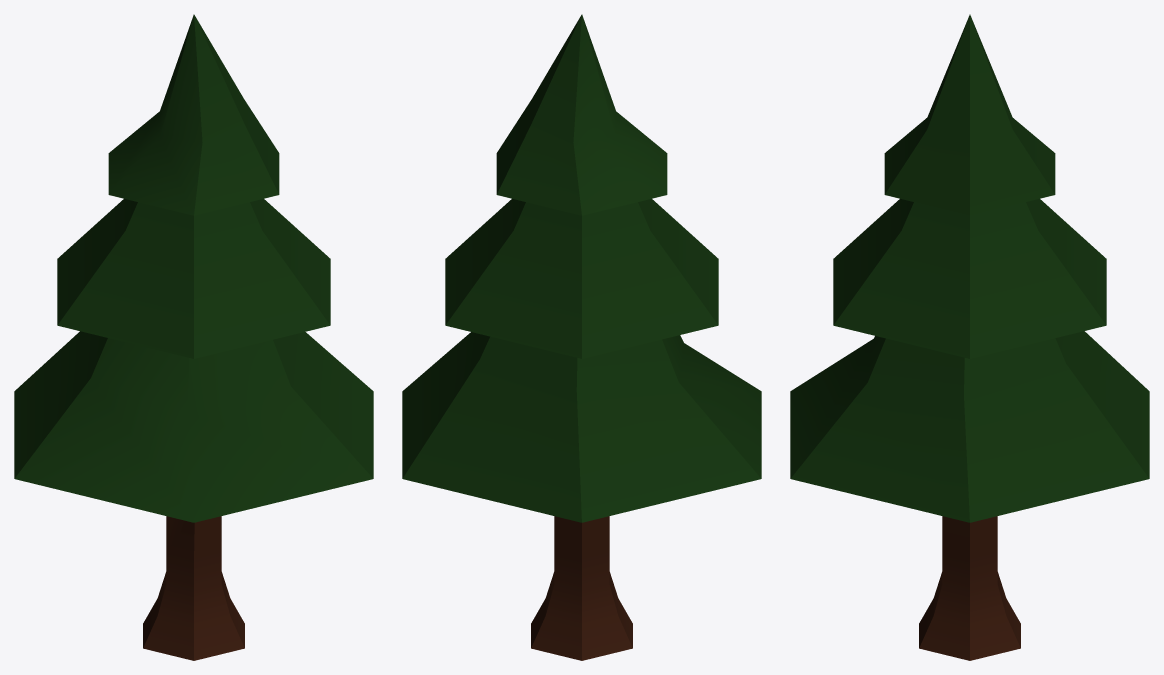
File: tree_pine.fbx
3 views of the same model, side by side, from view 1: azimuth 30°, elevation 25°; view 2: azimuth 150°, elevation 25°; view 3: azimuth 270°, elevation 25° (orthographic).
Visible parts, largest first — view 1: Cone_2, Cone_1, Cone, Cylinder; view 2: Cone_2, Cone_1, Cone, Cylinder; view 3: Cone_2, Cone_1, Cone, Cylinder.
Boxes of the visible parts, bbox=[...] form: Cone_2: bbox=[14, 331, 373, 522]; Cone_1: bbox=[57, 199, 330, 358]; Cone: bbox=[108, 14, 279, 215]; Cylinder: bbox=[143, 516, 244, 660]; Cone_2: bbox=[402, 332, 761, 522]; Cone_1: bbox=[445, 199, 718, 358]; Cone: bbox=[496, 14, 667, 215]; Cylinder: bbox=[531, 516, 632, 660]; Cone_2: bbox=[790, 331, 1149, 522]; Cone_1: bbox=[833, 199, 1106, 358]; Cone: bbox=[884, 14, 1055, 215]; Cylinder: bbox=[919, 516, 1020, 660].
Bounding box in the file's own units: 324 × 536 × 281.
